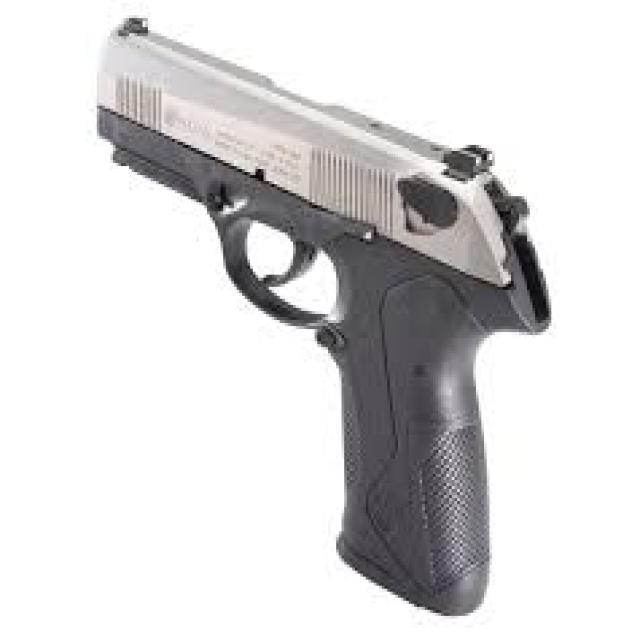pistol: (91, 13, 556, 629)
